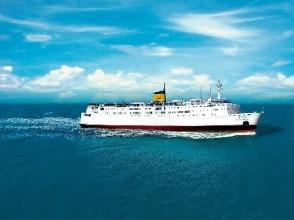youlun: (73, 78, 268, 131)
